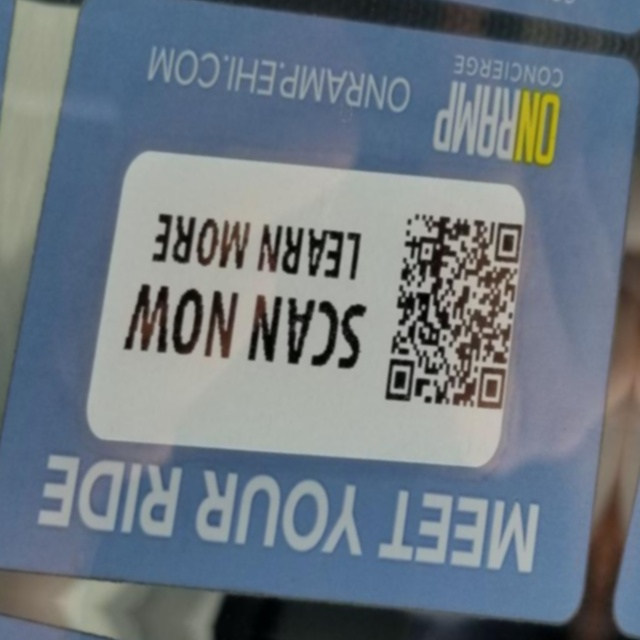qr-code: (351, 181, 550, 444)
